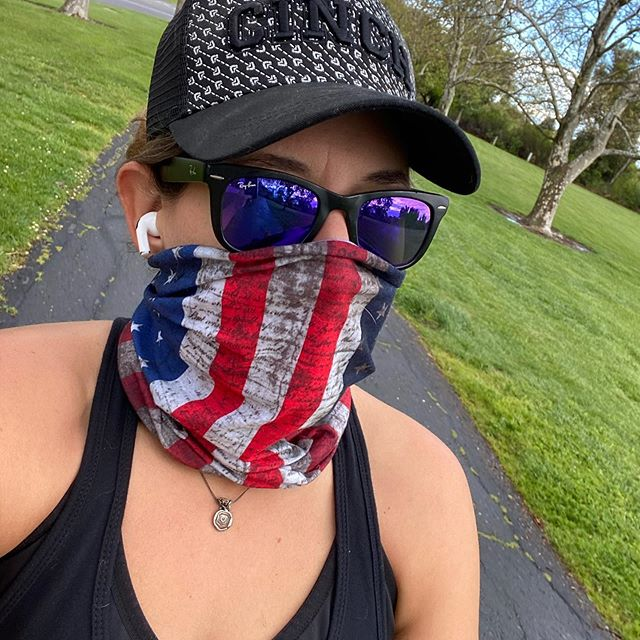homemade: (139, 243, 398, 483)
